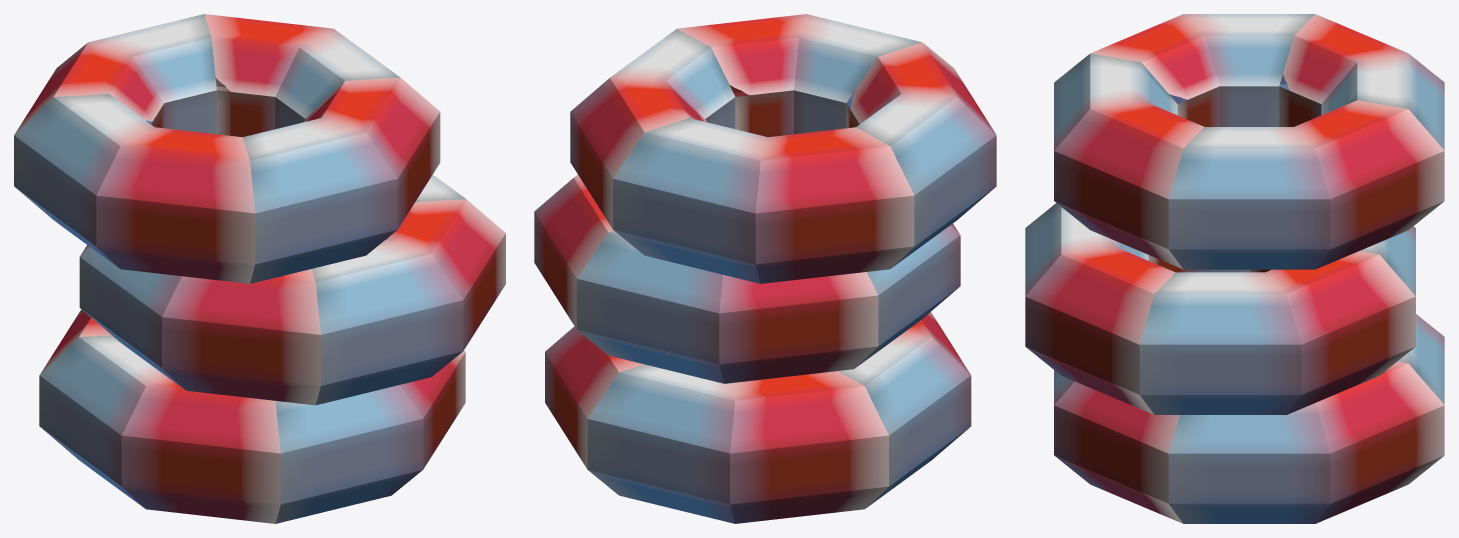
File: Buoy.fbx
3 views of the same model, side by side, from view 1: azimuth 30°, elevation 25°; view 2: azimuth 150°, elevation 25°; view 3: azimuth 270°, elevation 25° (orthographic).
Visible parts, largest first — view 1: buoy; view 2: buoy; view 3: buoy.
Boxes of the visible parts, x1,y1,x2,y2 form: buoy: (14,14,505,523); buoy: (534,14,996,523); buoy: (1025,14,1444,523).
Size of the model in its own units: 15.51 by 13.86 by 14.51.
1 material, 1 textured.
